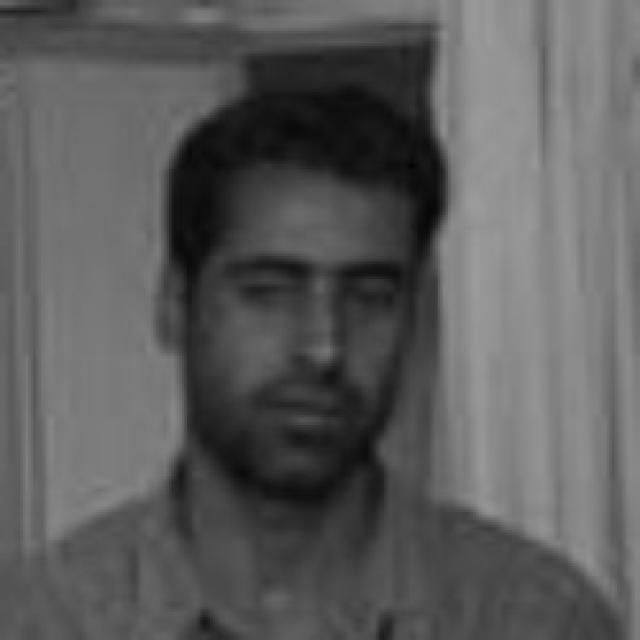real: (191, 92, 426, 484), (239, 262, 394, 314)
